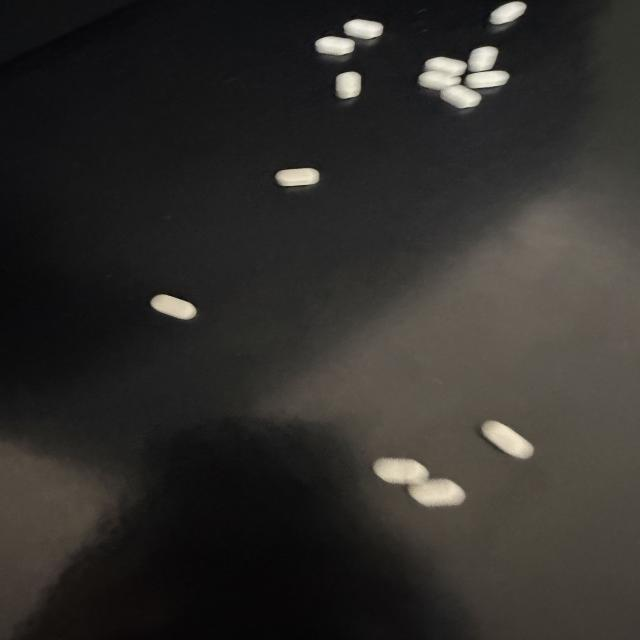pill: (481, 421, 534, 459), (408, 479, 465, 506), (373, 458, 428, 484), (151, 294, 196, 319), (441, 85, 481, 108), (418, 71, 461, 90), (489, 2, 526, 24), (424, 57, 466, 76), (275, 168, 319, 186), (465, 70, 509, 88), (344, 19, 383, 39), (468, 46, 498, 72), (315, 36, 354, 55), (336, 72, 361, 99)
